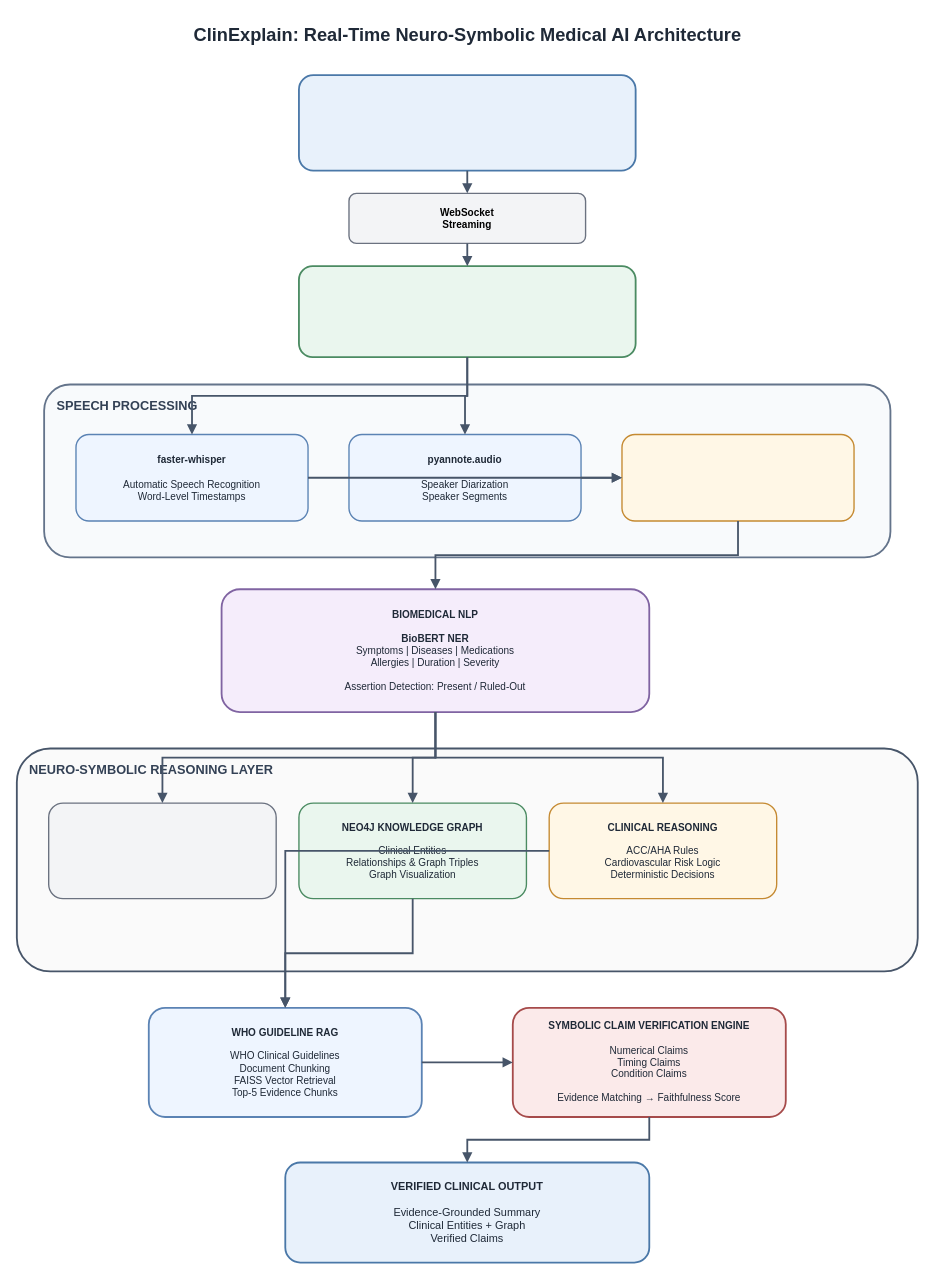
The diagram is 934 pixels wide and 1279 high, and some of its shapes have lost their labels. Here are the shapes that lost their labels. From the top down, the centre of each, then its label:
the point at 467,122: REACT 18 FRONTEND Web Audio API 16 kHz PCM Audio Real-Time Consultation
the point at 467,311: FASTAPI BACKEND Streaming Gateway Processing Orchestration
the point at 737,477: Word--Speaker Alignment Temporal Threshold: τ = 150 ms Boundary Word Migration
the point at 162,850: WIKIDATA SPARQL Entity Linking Biomedical QIDs wdt:P780
